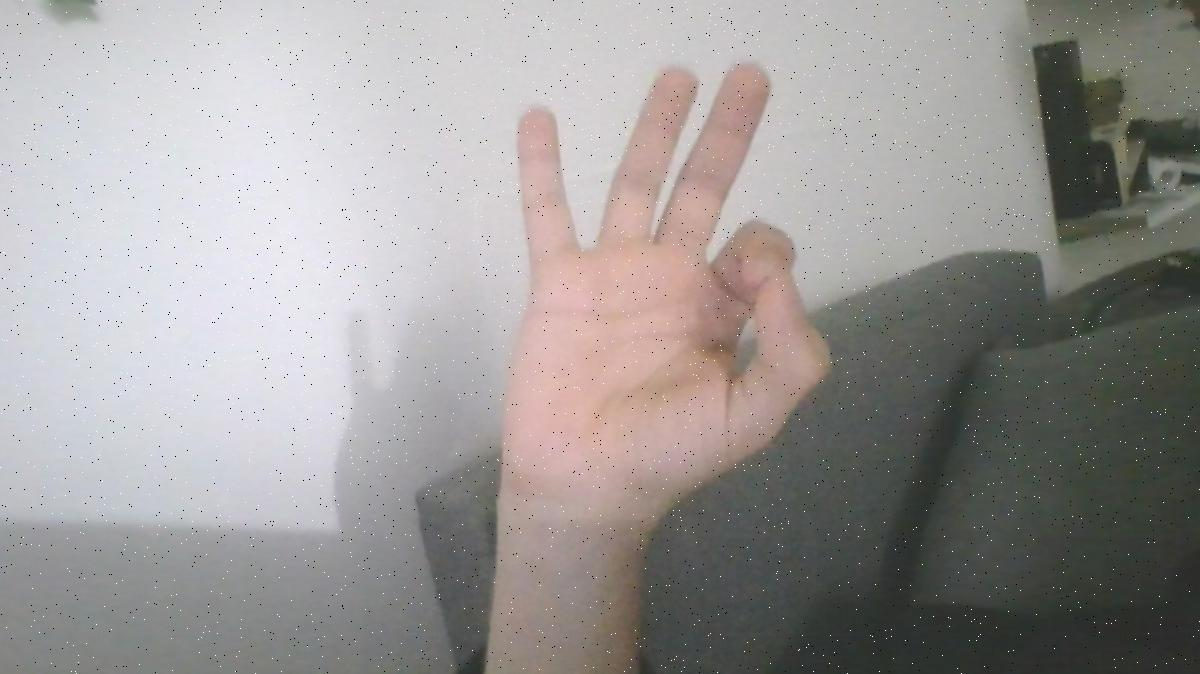zero: (481, 44, 869, 530)
